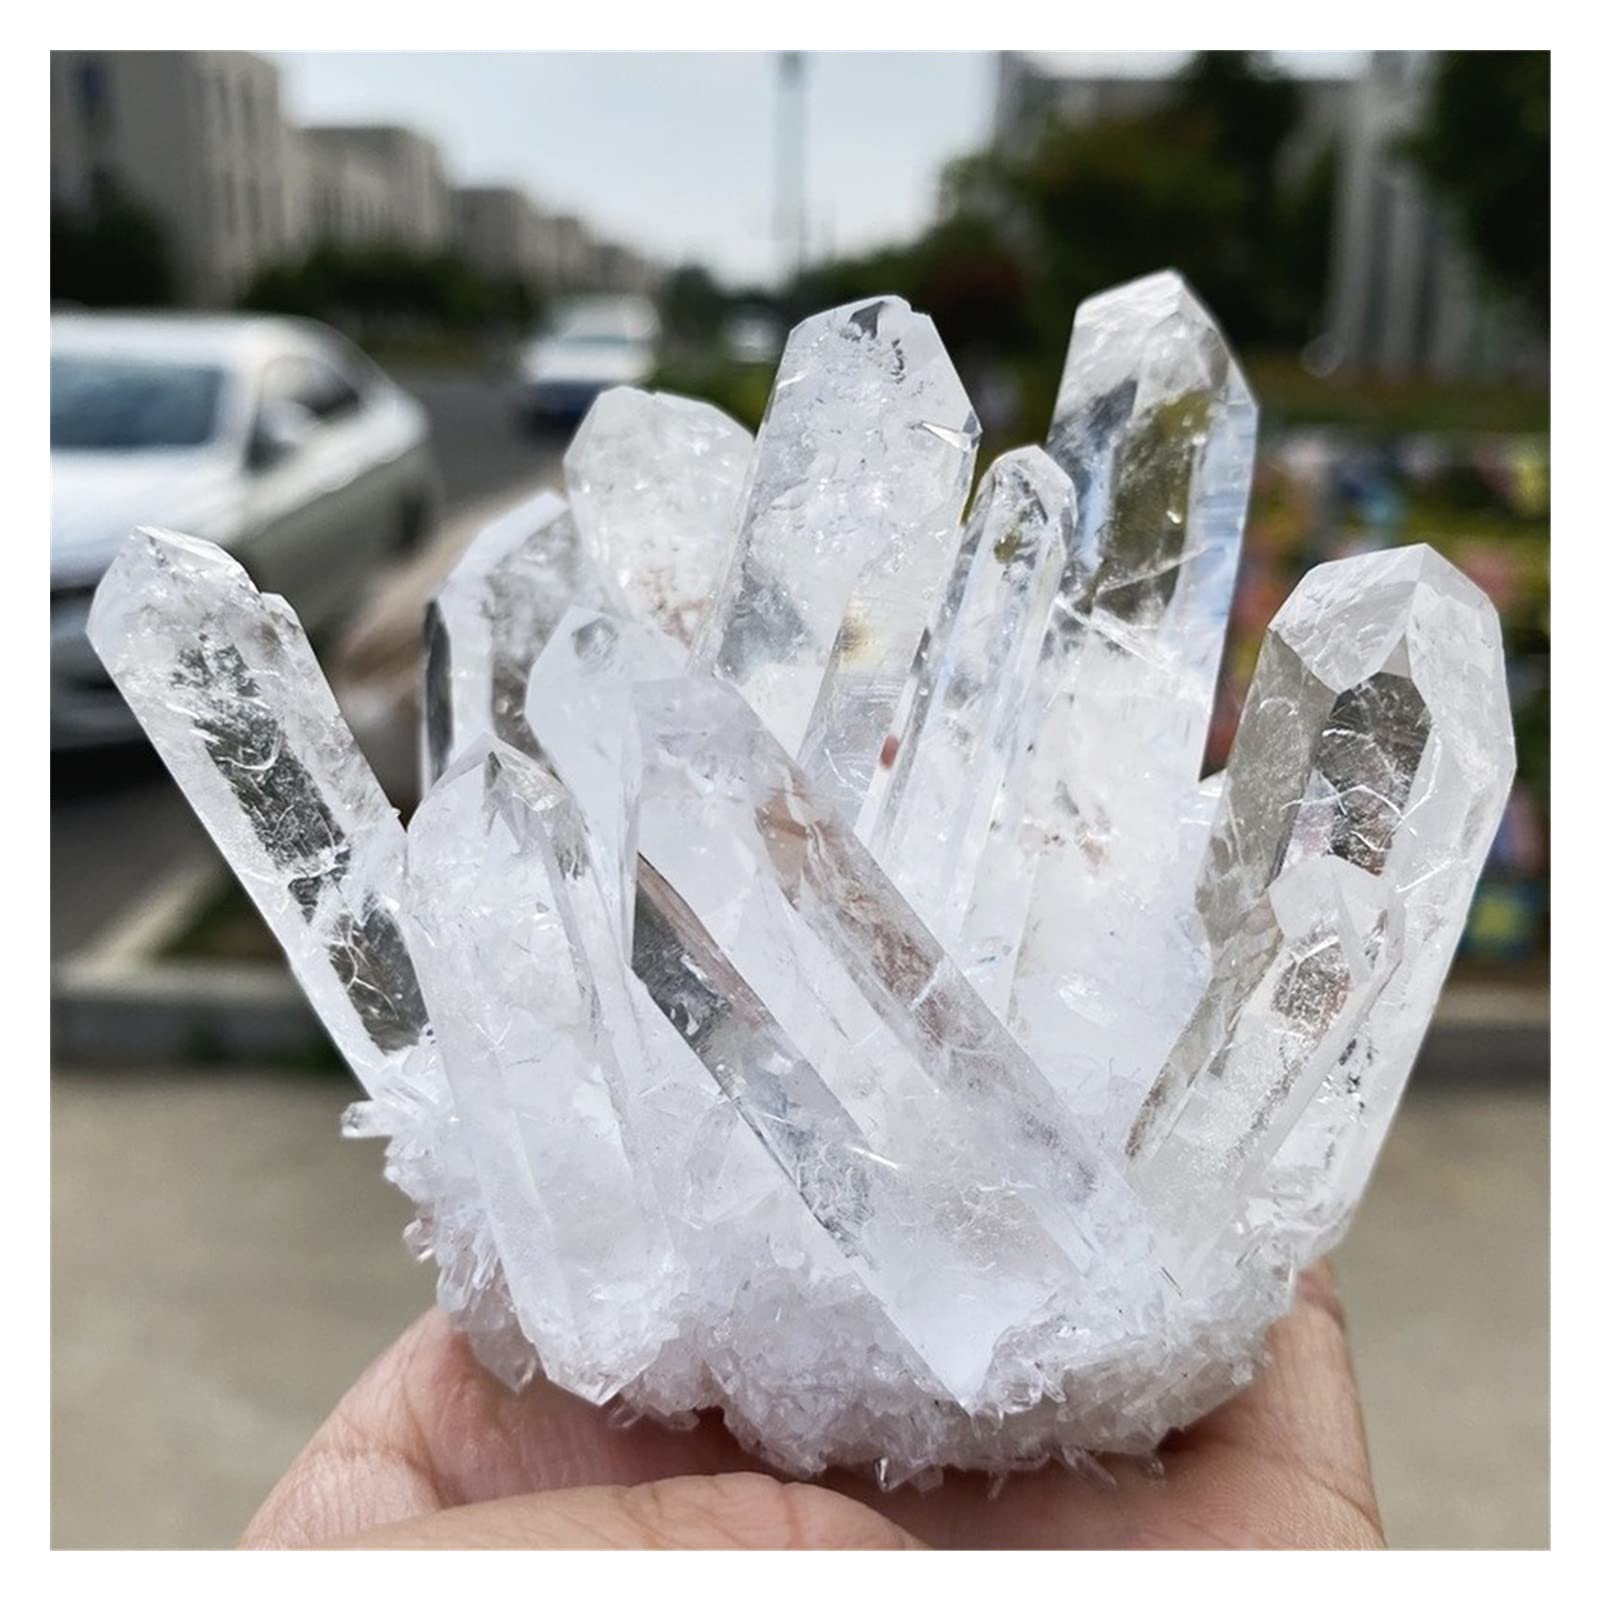Clear_Quartz: (89, 268, 1517, 1478)
